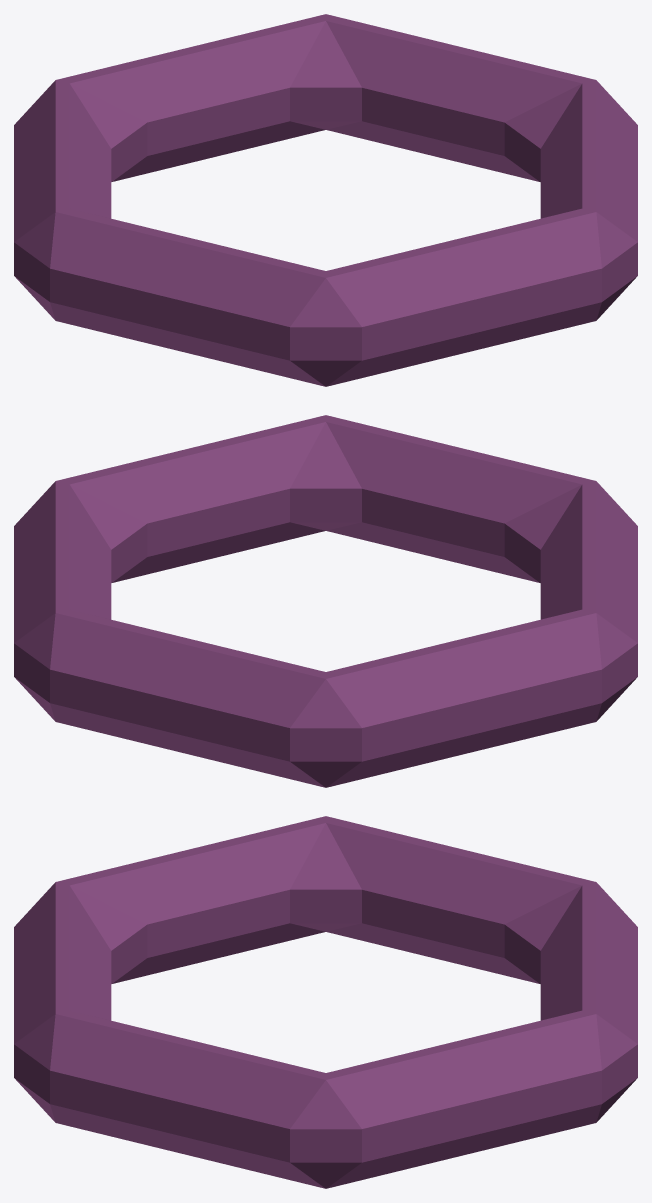
File: comutador.glb
The picture shows the model from 3 angles, top to bottom: view 1: azimuth 30°, elevation 25°; view 2: azimuth 150°, elevation 25°; view 3: azimuth 270°, elevation 25°; orthographic projection.
Parts seen in each view (by area): view 1: comutador-col; view 2: comutador-col; view 3: comutador-col.
Part boxes in pixels (box(x1,y1,x2,y2)): comutador-col: box(14, 14, 637, 386); comutador-col: box(14, 415, 637, 787); comutador-col: box(14, 816, 637, 1188).
Bounding box in the file's own units: 1.63 × 0.289 × 1.5.
